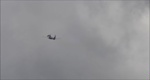maybay_muctieu: (43, 32, 59, 44)
